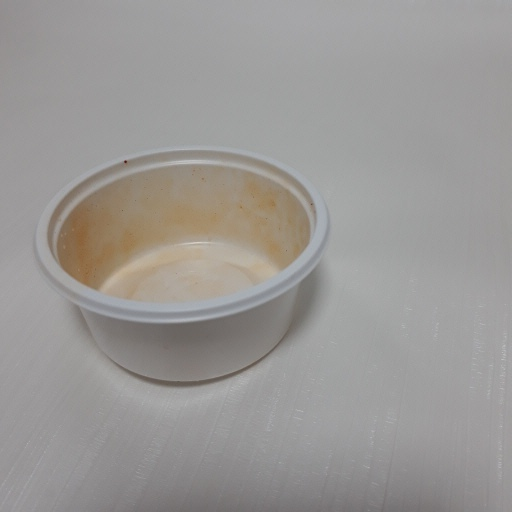Plastic_5: (32, 146, 332, 391)
